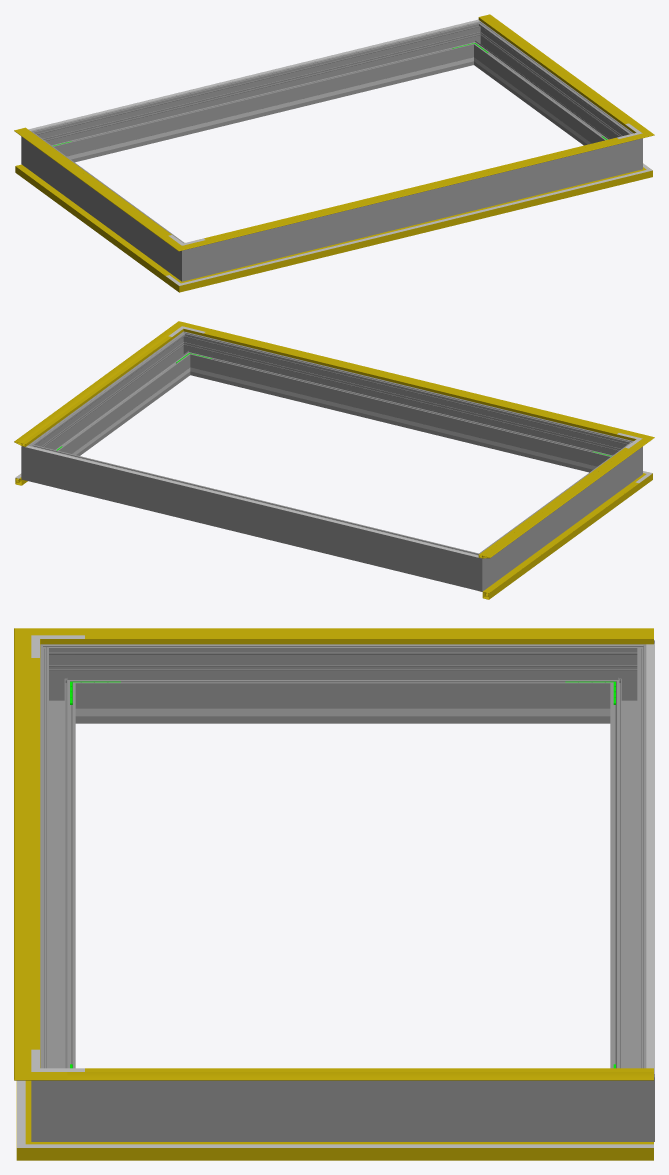
3 views of the same model, one above another, from view 1: azimuth 30°, elevation 25°; view 2: azimuth 150°, elevation 25°; view 3: azimuth 270°, elevation 25° (orthographic). The views are drawn at different scales.
Visible parts, largest first — view 1: 3DGeom-276, 3DGeom-298, 3DGeom-297, 3DGeom-268, 3DGeom-11, 3DGeom-141, 3DGeom-244, 3DGeom-145, 3DGeom-6, 3DGeom-147, 3DGeom-220, 3DGeom-20 (+9 smaller); view 2: 3DGeom-298, 3DGeom-276, 3DGeom-297, 3DGeom-268, 3DGeom-141, 3DGeom-145, 3DGeom-239, 3DGeom-6, 3DGeom-147, 3DGeom-278, 3DGeom-220, 3DGeom-158 (+7 smaller); view 3: 3DGeom-268, 3DGeom-297, 3DGeom-276, 3DGeom-298, 3DGeom-16, 3DGeom-147, 3DGeom-141, 3DGeom-145, 3DGeom-232, 3DGeom-220, 3DGeom-158, 3DGeom-284 (+9 smaller).
Part boxes in pixels (x1,y1,x2,y2): 3DGeom-276: (47,26,469,162); 3DGeom-298: (205,144,618,275); 3DGeom-297: (476,29,624,145); 3DGeom-268: (35,139,175,271); 3DGeom-11: (199,173,629,286); 3DGeom-141: (198,137,630,245); 3DGeom-244: (75,63,450,158); 3DGeom-145: (478,14,640,129); 3DGeom-6: (15,164,171,282); 3DGeom-147: (14,128,171,240); 3DGeom-220: (28,19,480,130); 3DGeom-20: (201,174,628,279); 3DGeom-298: (194,336,616,472); 3DGeom-276: (45,449,462,585); 3DGeom-297: (39,340,187,455); 3DGeom-268: (488,449,628,581); 3DGeom-141: (195,327,630,438); 3DGeom-145: (14,331,176,446); 3DGeom-239: (213,373,588,468); 3DGeom-6: (480,482,639,599); 3DGeom-147: (478,445,640,558); 3DGeom-278: (458,546,495,591); 3DGeom-220: (25,445,478,557); 3DGeom-158: (204,332,618,434); 3DGeom-268: (84,644,601,723); 3DGeom-297: (84,1080,601,1141); 3DGeom-276: (610,663,646,1068); 3DGeom-298: (40,663,75,1068); 3DGeom-16: (70,1142,653,1160); 3DGeom-147: (67,628,653,644); 3DGeom-141: (14,650,40,1056); 3DGeom-145: (67,1072,653,1080); 3DGeom-232: (127,708,558,716); 3DGeom-220: (646,643,654,1073); 3DGeom-158: (31,658,39,1049); 3DGeom-284: (601,1054,654,1141).
Bounding box in the file's own units: 3.05 × 0.2596 × 1.83.
